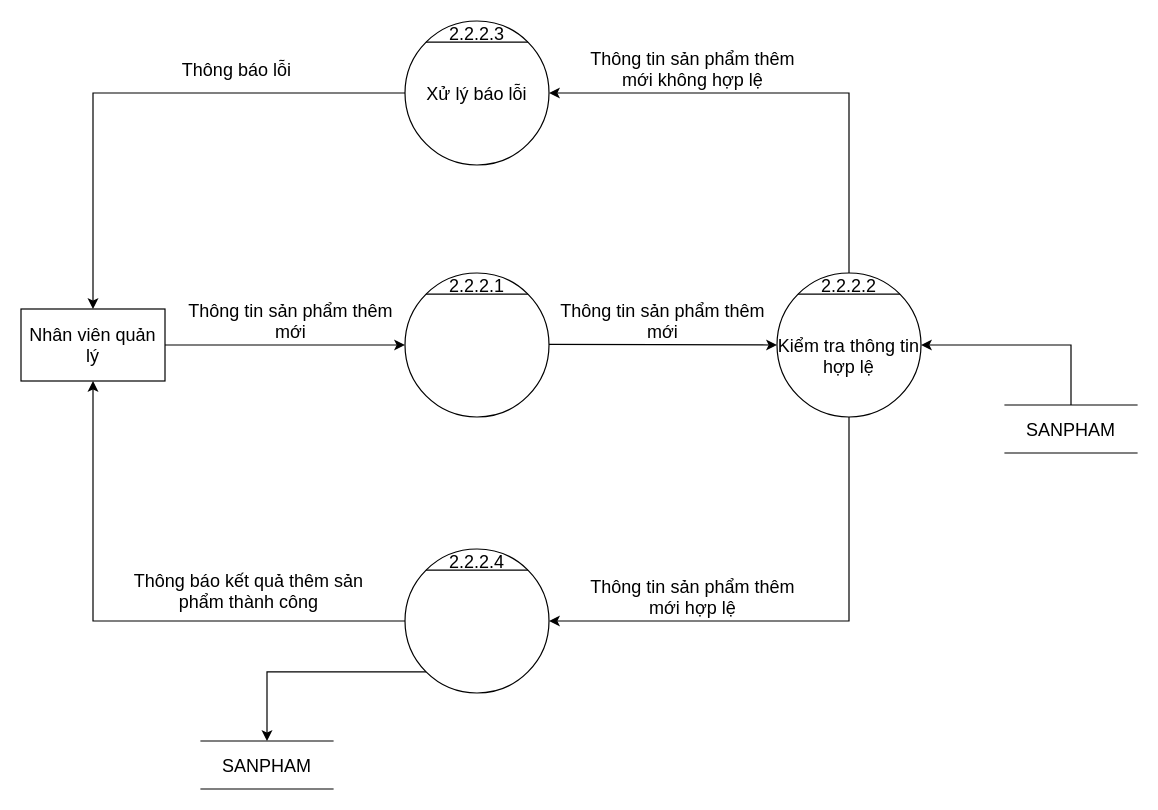
The diagram is 1158 pixels wide and 810 high, and some of its shapes have lost their labels. Here are the shapes that lost their labels. From the top down, the box of each, then its label:
(404, 272, 549, 417): Tiếp nhận thông tin thêm mới sản phẩm
(404, 548, 549, 693): Thêm sản phẩm
